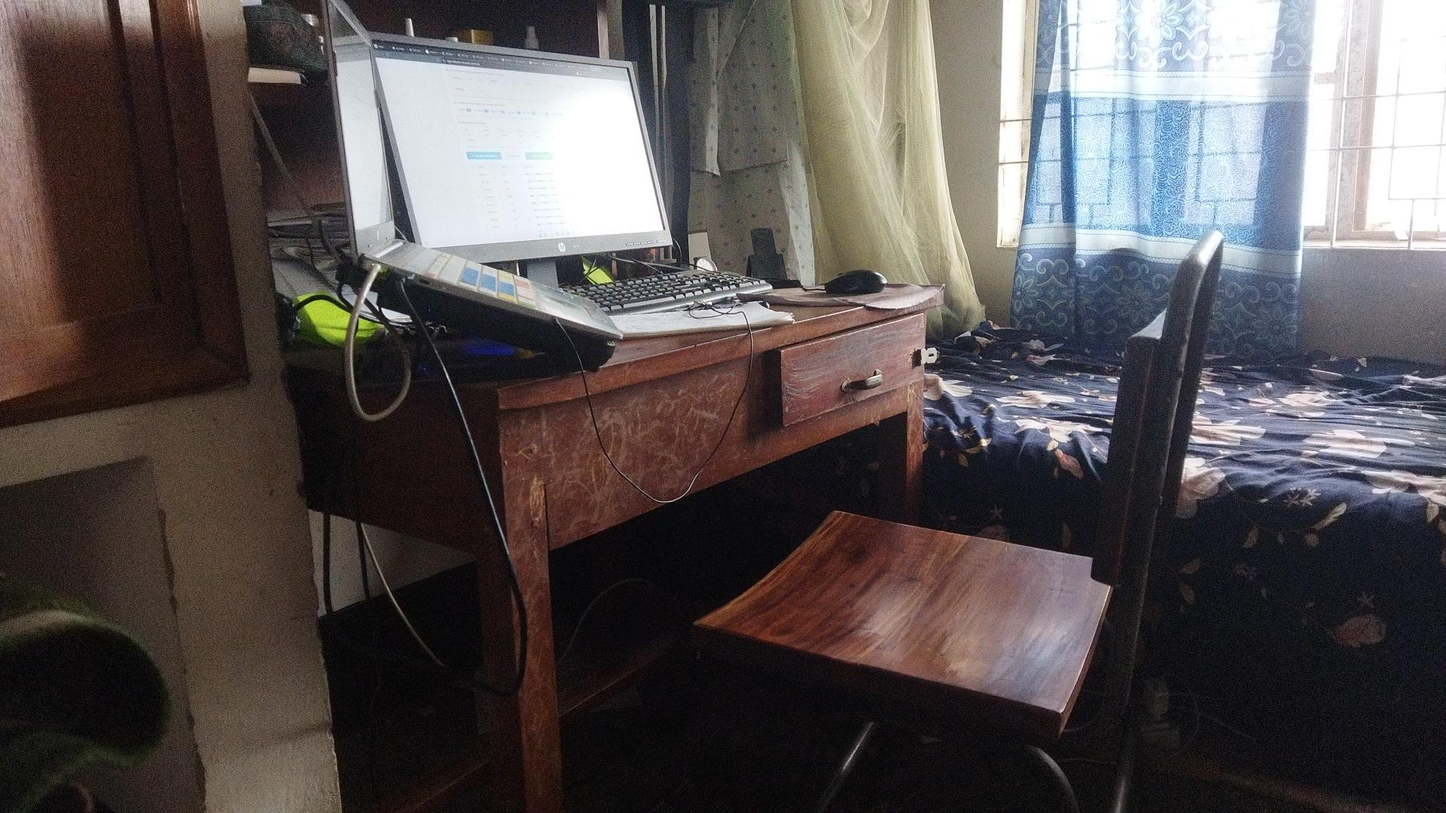Chair: (705, 225, 1234, 784)
Drawer: (778, 304, 936, 430)
Keyboard: (569, 258, 775, 303)
Laptop: (285, 3, 601, 339)
Monitor: (365, 21, 682, 245)
Mouse: (822, 259, 896, 305)
Table: (312, 220, 964, 804)
